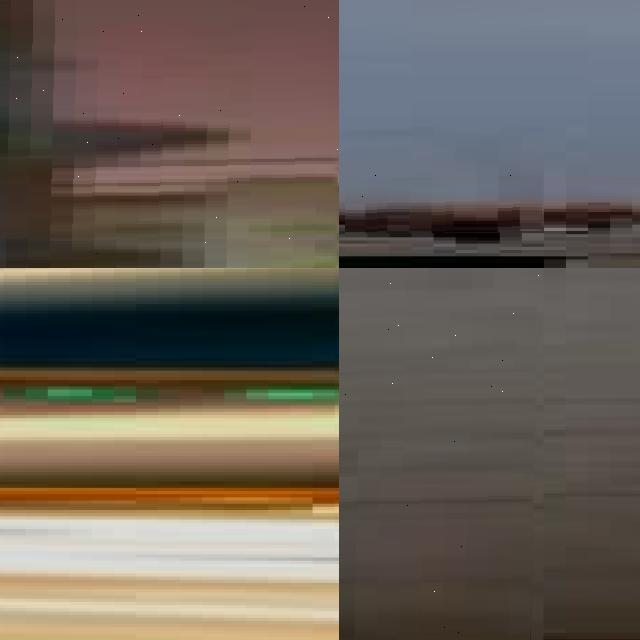street light: (0, 0, 339, 268), (339, 268, 543, 640), (345, 134, 544, 235)
